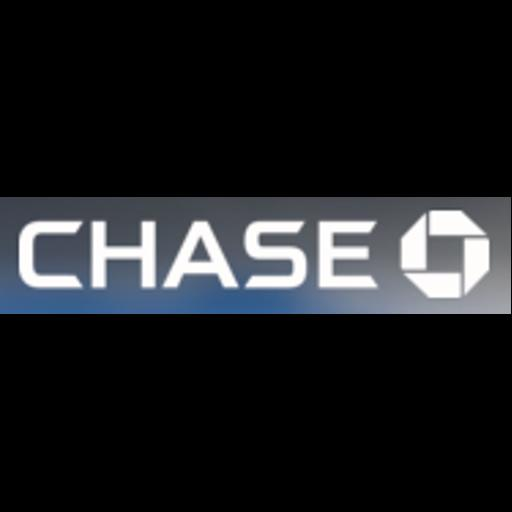Chase Personal Banking: (0, 197, 511, 314)
